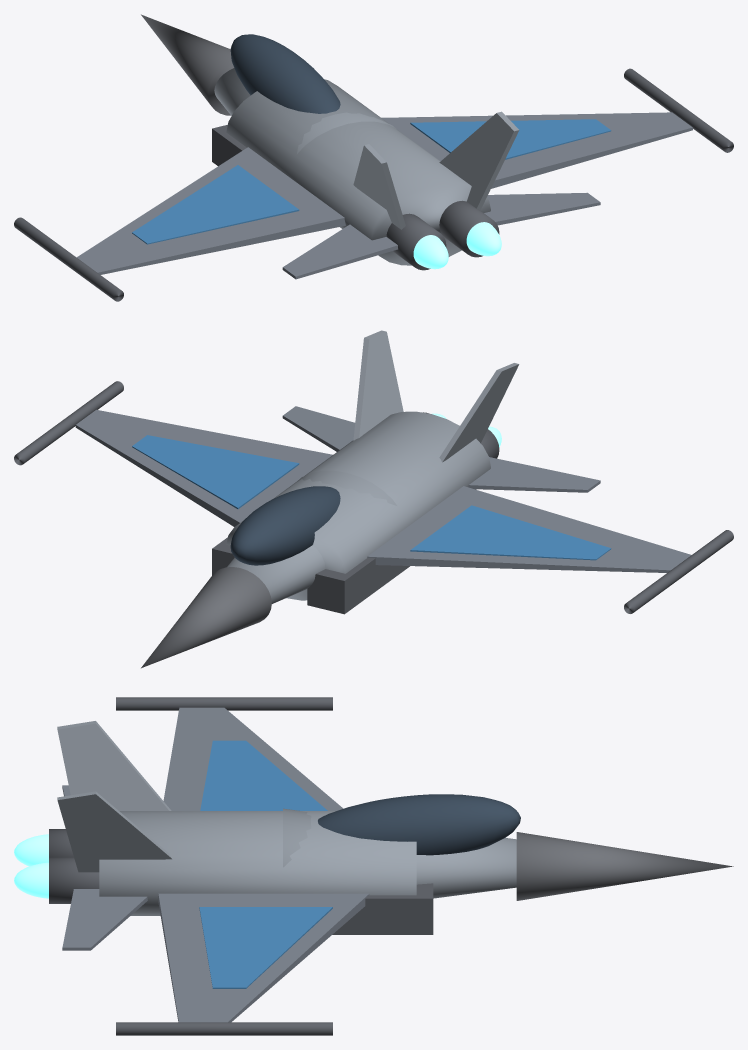
File: nave_jugador.glb
The picture shows the model from 3 angles, top to bottom: view 1: azimuth 30°, elevation 25°; view 2: azimuth 150°, elevation 25°; view 3: azimuth 270°, elevation 25°; orthographic projection. The views are drawn at different scales.
Visible parts, largest first — view 1: Cuerpo, Ala_-1, Ala_1, Franja_-1, Cabina, Franja_1, Deriva_1, Radomo, Elevador_-1, Elevador_1, Deriva_-1, Morro (+7 smaller); view 2: Cuerpo, Ala_-1, Ala_1, Franja_-1, Radomo, Franja_1, Cabina, Morro, Deriva_1, TomaAire_-1, Elevador_-1, Deriva_-1 (+3 smaller); view 3: Cuerpo, Ala_1, Cabina, Radomo, Franja_1, Ala_-1, Franja_-1, Deriva_-1, Morro, Deriva_1, TomaAire_1, Elevador_1 (+6 smaller).
Part boxes in pixels (x1,y1,x2,y2): Cuerpo: (226,79,490,265); Ala_-1: (77,147,345,274); Ala_1: (381,112,692,188); Franja_-1: (132,165,299,244); Cabina: (230,34,340,113); Franja_1: (410,119,611,159); Deriva_1: (439,111,519,210); Radomo: (141,14,234,115); Elevador_-1: (282,224,397,279); Elevador_1: (484,192,600,225); Deriva_-1: (353,144,405,229); Morro: (214,68,396,153); Cuerpo: (226,411,490,600); Ala_-1: (367,486,691,572); Ala_1: (75,409,332,526); Franja_-1: (410,505,611,560); Radomo: (141,567,271,668); Franja_1: (132,435,299,509); Cabina: (230,486,340,565); Morro: (227,470,396,603); Deriva_1: (353,330,403,440); TomaAire_-1: (307,558,409,614); Elevador_-1: (468,457,600,492); Deriva_-1: (439,363,519,462); Cuerpo: (99,811,416,915); Ala_1: (158,893,369,1022); Cabina: (318,794,520,855); Radomo: (516,832,733,900); Franja_1: (199,907,332,988); Ala_-1: (163,707,343,810); Franja_-1: (200,740,327,810); Deriva_-1: (57,721,171,810); Morro: (283,808,516,898); Deriva_1: (57,791,171,872); TomaAire_1: (332,883,433,934); Elevador_1: (62,889,147,950).
Size of the model in its own units: 4.68 by 1 by 4.31.
